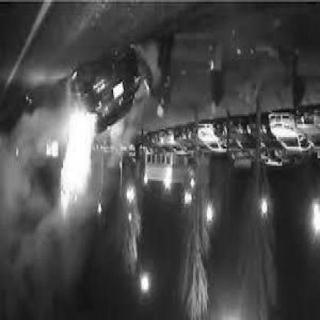Fire: (51, 103, 107, 224)
